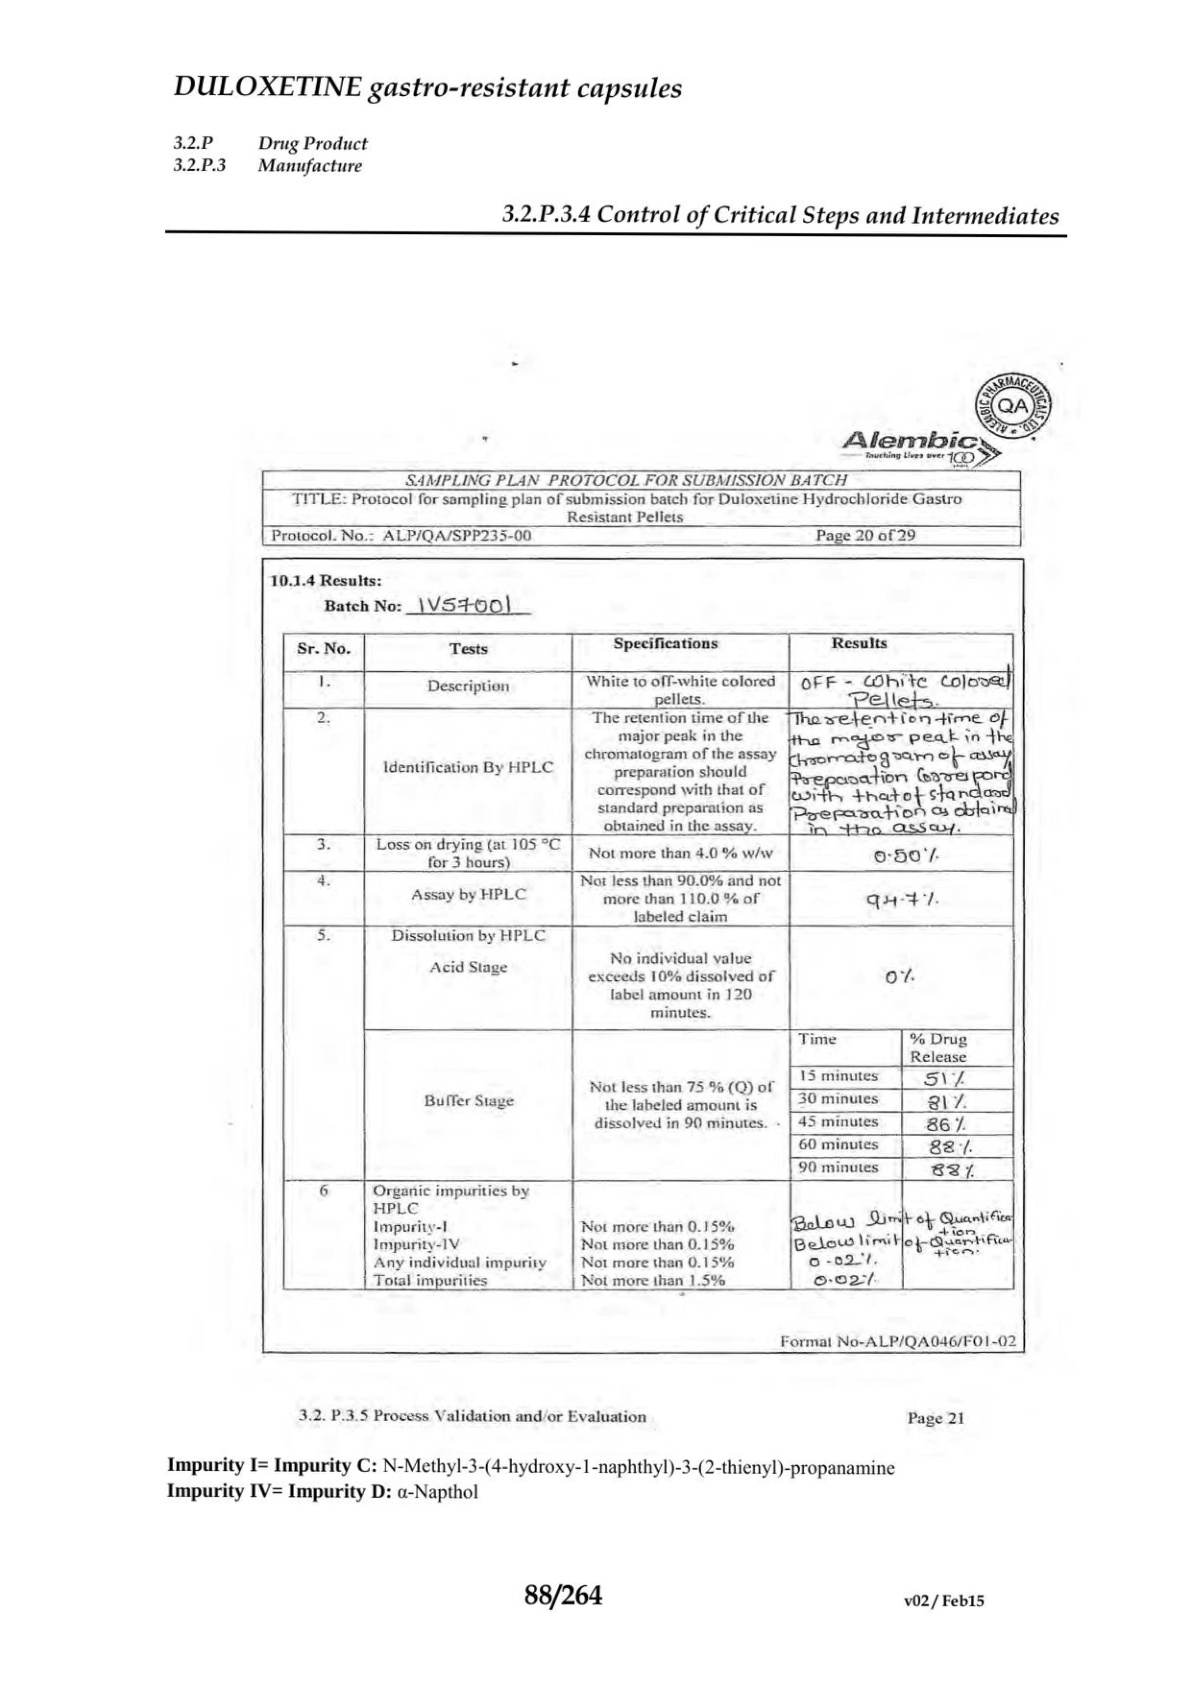full_lined: (261, 468, 1023, 547)
merged_cells: (281, 630, 1015, 1291)
